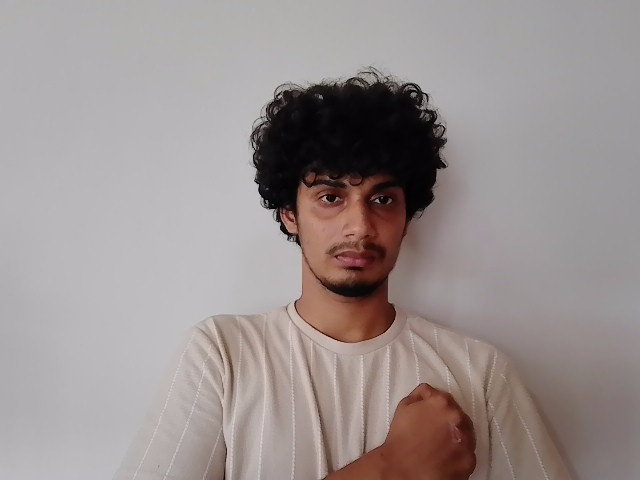sorry: (348, 304, 560, 480)
